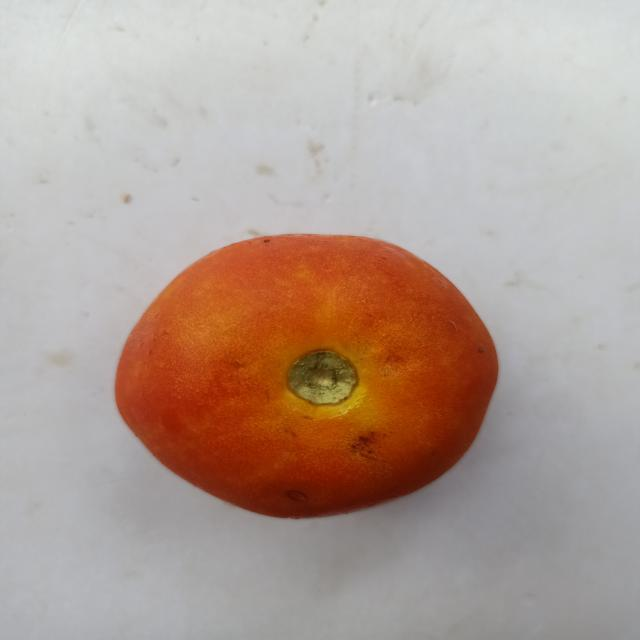Tomato: (86, 220, 528, 538)
